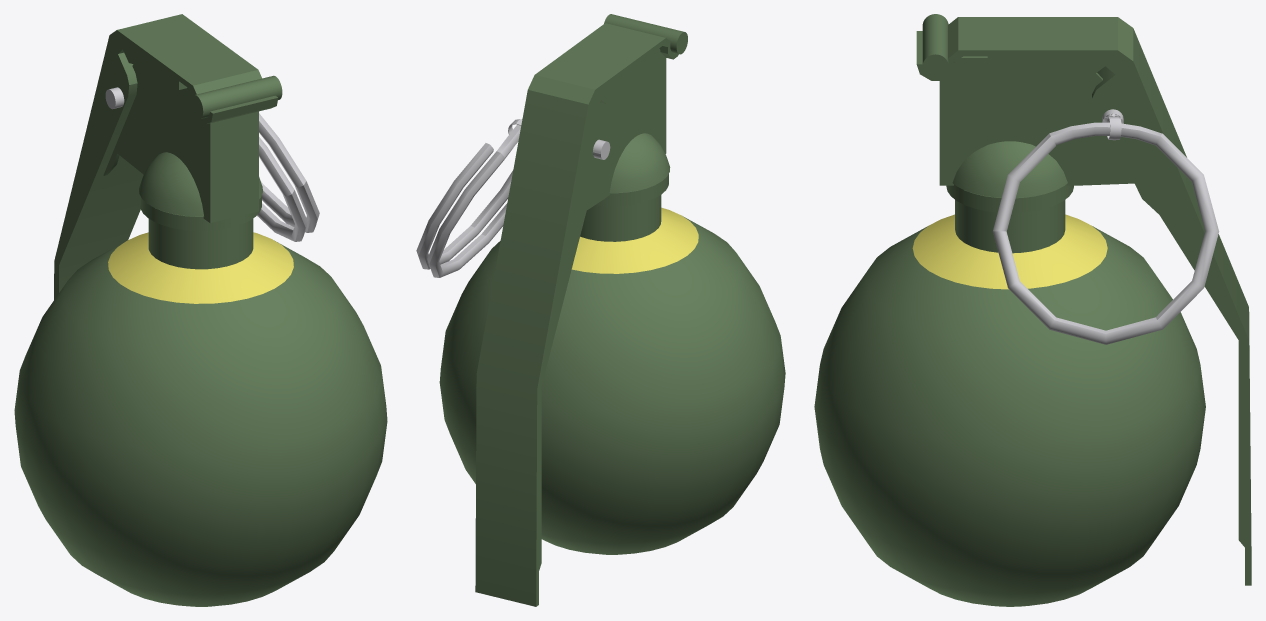
3 views of the same model, side by side, from view 1: azimuth 30°, elevation 25°; view 2: azimuth 150°, elevation 25°; view 3: azimuth 270°, elevation 25° (orthographic). The views are drawn at different scales.
Visible parts, largest first — view 1: body, spoon, pin; view 2: body, spoon, pin; view 3: body, spoon, pin.
Part boxes in pixels (box(x1,y1,x2,y2)): body: box(14, 64, 387, 606); spoon: box(54, 14, 278, 299); pin: box(105, 75, 319, 241); body: box(439, 48, 785, 554); spoon: box(475, 23, 678, 606); pin: box(416, 14, 687, 277); body: box(814, 56, 1205, 606); spoon: box(916, 17, 1251, 585); pin: box(922, 14, 1219, 344).
Size of the model in its own units: 0.0581 by 0.09 by 0.0648.
